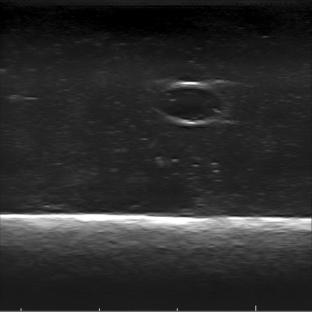vessel: (156, 81, 224, 126)
